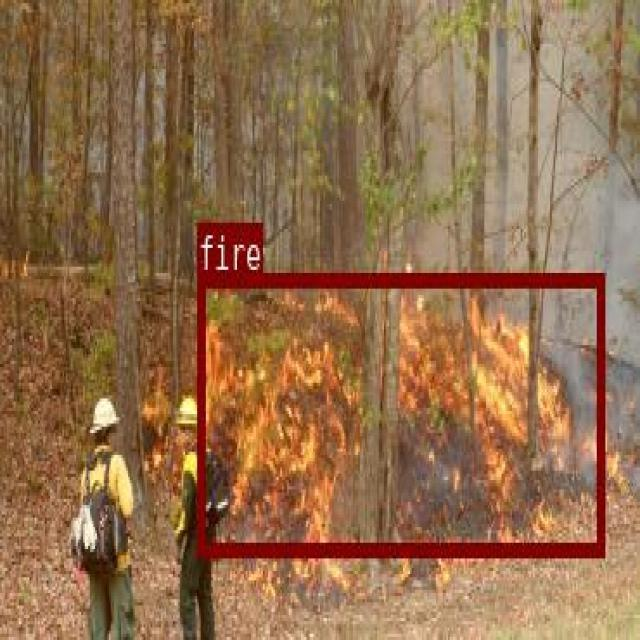fire: (197, 272, 603, 554)
